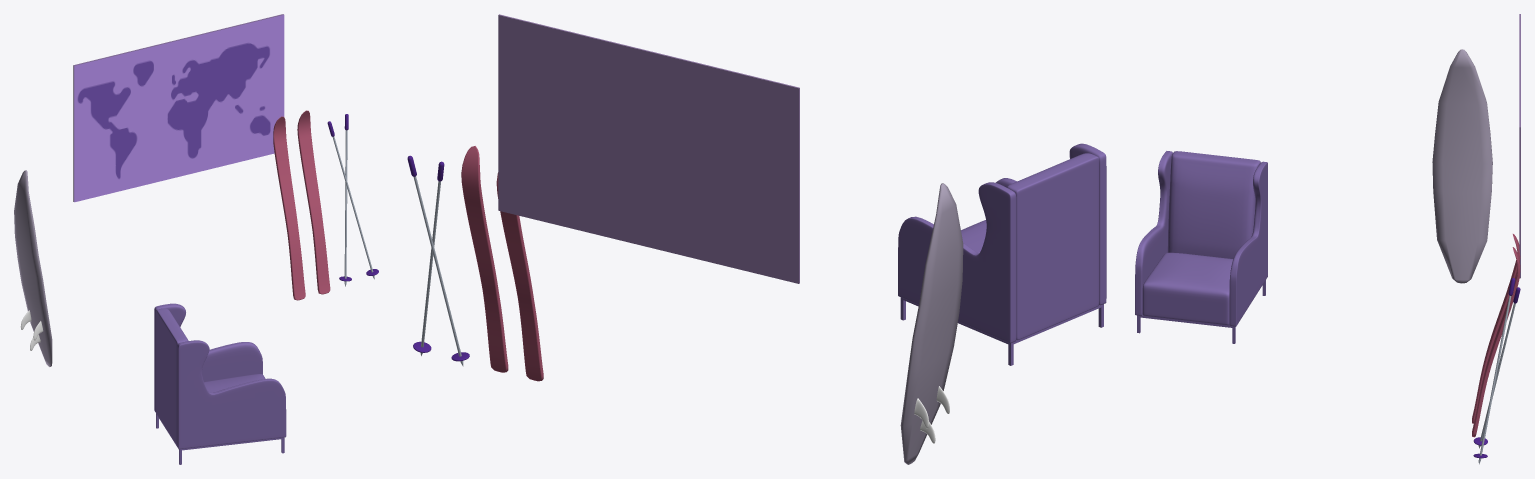
Rendered from scene4-static-output-1.gltf.
3 renders of one model, left to right at view 1: azimuth 30°, elevation 25°; view 2: azimuth 150°, elevation 25°; view 3: azimuth 270°, elevation 25°, orthographic. The views are drawn at different scales.
Visible parts, largest first — view 1: Map, side_002, Plane, back_001, side_001, Ski.1, Ski, Cone+Cylinder (×2), MapBase, seat_001, legs; view 2: MapBase, back_001, side_001, Plane, Ski.1, Ski, side_002, legs; view 3: Plane, back_001, seat_001, side_001, side_002, Ski.1, Ski, MapBase, Cone+Cylinder, legs.
Part boxes in pixels (x1,y1,x2,y2): Map: (74,15,284,202); side_002: (177,340,286,449); Plane: (14,170,52,366); back_001: (156,308,188,445); side_001: (154,303,262,412); Ski.1: (297,110,330,294); Ski: (273,116,305,300); Cone+Cylinder (×2): (332,130,374,286); MapBase: (73,14,283,201); seat_001: (204,374,265,392); legs: (156,413,284,464); MapBase: (498,14,799,283); back_001: (1006,153,1098,339); side_001: (898,182,1016,343); Plane: (900,183,963,464); Ski.1: (461,146,508,372); Ski: (496,172,543,381); side_002: (996,143,1106,305); legs: (900,297,1103,365); Plane: (1432,49,1492,283); back_001: (1167,151,1260,258); seat_001: (1142,252,1232,325); side_001: (1229,161,1267,326); side_002: (1135,151,1172,315); Ski.1: (1472,247,1520,437); Ski: (1472,234,1520,423); MapBase: (1519,14,1520,278); Cone+Cylinder: (1478,295,1511,464); legs: (1137,280,1265,343).
Size of the model in its own units: 644 by 455 by 533.
10 materials, 1 textured.
